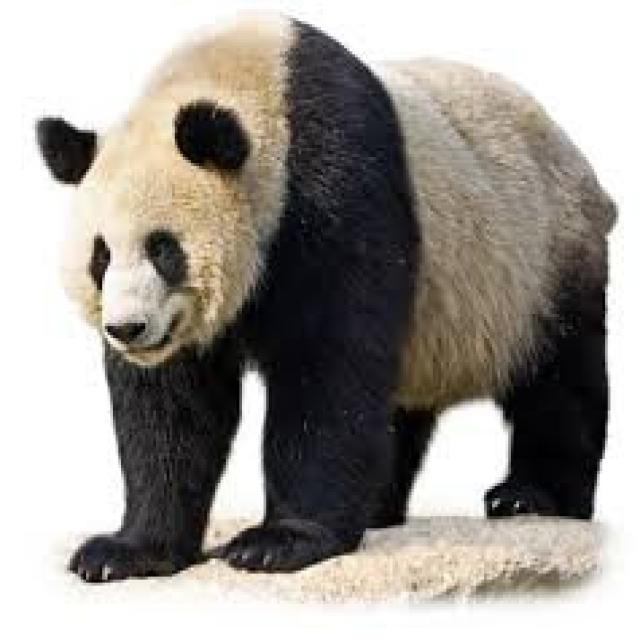Panda: (39, 18, 617, 587)
